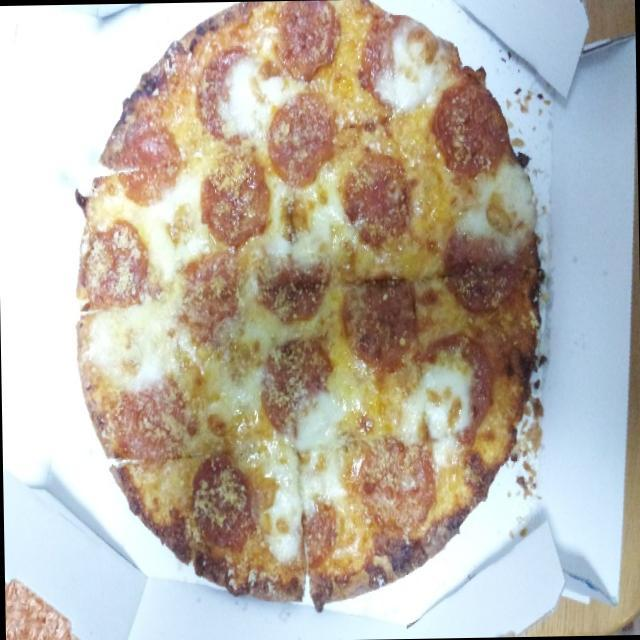Pizza: (53, 0, 567, 621)
